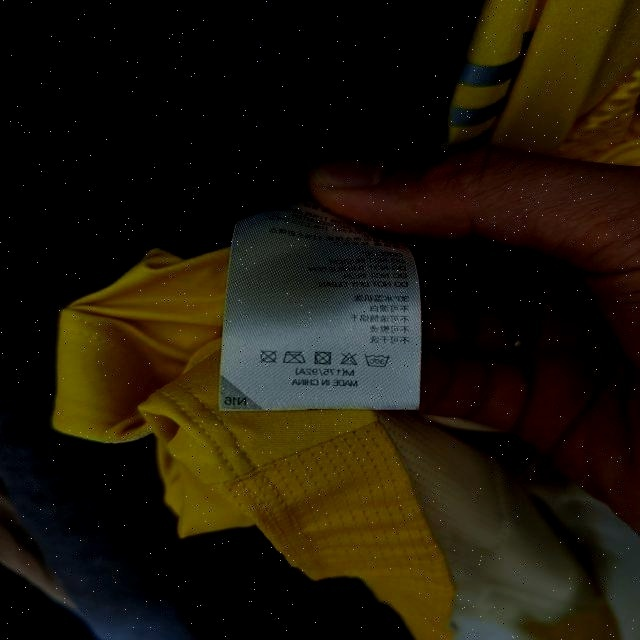30C: (363, 351, 391, 370)
DN_bleach: (337, 351, 358, 366)
DN_dry_clean: (257, 348, 278, 365)
DN_iron: (282, 348, 308, 366)
DN_tumble_dry: (312, 350, 332, 367)
